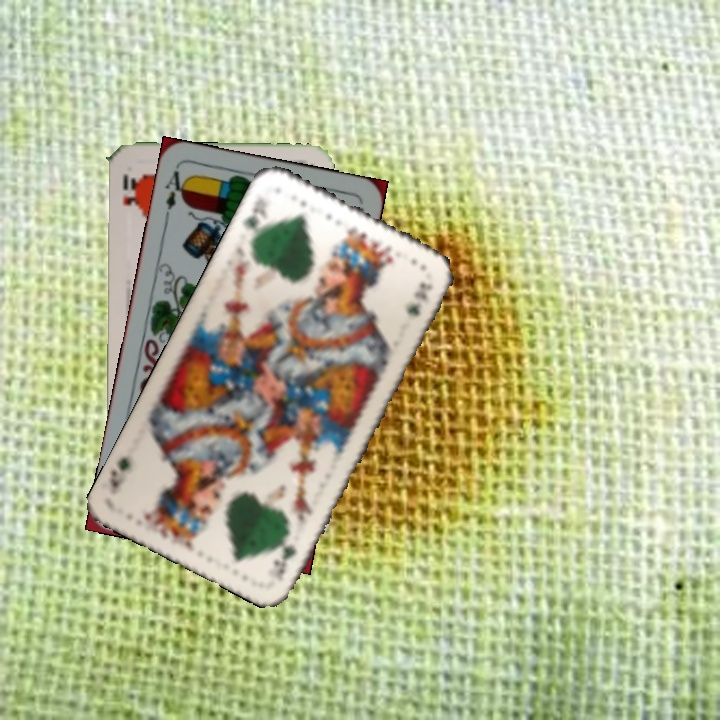EA: (160, 166, 190, 223)
GK: (265, 527, 299, 584), (238, 194, 271, 246)
HO: (119, 170, 140, 209)
